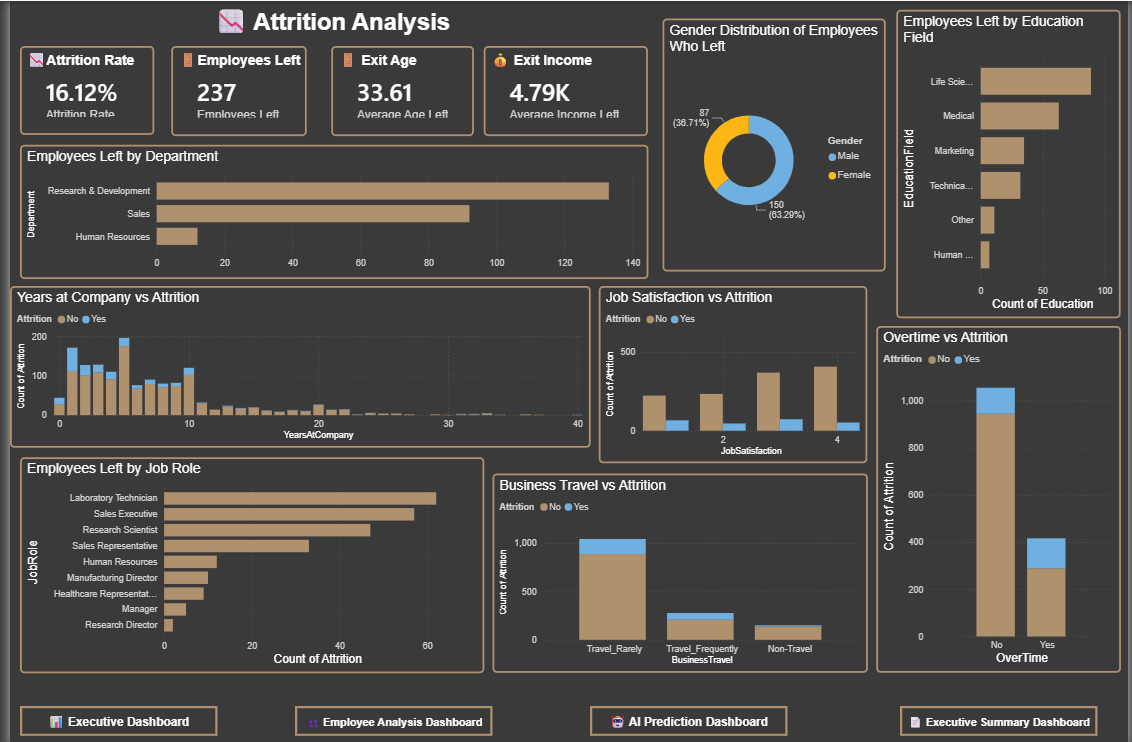

This screenshot's page, from the dashboard's own definition file:
{"tool":"powerbi","page":{"name":"Attrition Analysis","canvas":[1500,1000],"ordinal":3},"visuals":[{"type":"textbox","box":[170.5,0,522.6,53.1],"z":0},{"type":"clusteredBarChart","title":"Employees Left by Department","fields":{"Category":["FactEmployee.Department"],"Y":["CountNonNull(FactEmployee.Attrition)"]},"box":[12.9,193,842.6,180.1],"z":1000},{"type":"clusteredBarChart","title":"Employees Left by Job Role","fields":{"Category":["FactEmployee.JobRole"],"Y":["CountNonNull(FactEmployee.Attrition)"]},"box":[12.9,611.1,622.3,289.5],"z":2000},{"type":"columnChart","title":"Overtime vs Attrition","fields":{"Category":["FactEmployee.OverTime"],"Series":["FactEmployee.Attrition"],"Y":["CountNonNull(FactEmployee.Attrition)"]},"box":[1161,435.8,328,464.7],"z":3000},{"type":"columnChart","title":"Business Travel vs Attrition","fields":{"Category":["FactEmployee.BusinessTravel"],"Series":["FactEmployee.Attrition"],"Y":["CountNonNull(FactEmployee.Attrition)"]},"box":[646.4,633.6,503.3,266.9],"z":4000},{"type":"cardVisual","title":"📉Attrition Rate","fields":{"Data":["FactEmployee.Attrition Rate"]},"box":[12.9,61.1,180.1,119],"z":5000},{"type":"cardVisual","title":"🚪Employees Left","fields":{"Data":["FactEmployee.Employees Left"]},"box":[215.5,61.1,181.7,120.6],"z":6000},{"type":"cardVisual","title":"🚪 Exit Age","fields":{"Data":["FactEmployee.Average Age Left"]},"box":[431,61.1,191.4,120.6],"z":7000},{"type":"cardVisual","title":"💰 Exit Income","fields":{"Data":["FactEmployee.Average Income Left"]},"box":[635.2,61.1,220.3,120.6],"z":8000},{"type":"clusteredColumnChart","title":"Job Satisfaction vs Attrition","fields":{"Category":["FactEmployee.JobSatisfaction"],"Y":["CountNonNull(FactEmployee.Attrition)"],"Series":["FactEmployee.Attrition"]},"box":[789.6,382.7,360.2,238],"z":9000},{"type":"columnChart","title":"Years at Company vs Attrition","fields":{"Category":["FactEmployee.YearsAtCompany"],"Y":["CountNonNull(FactEmployee.Attrition)"],"Series":["FactEmployee.Attrition"]},"box":[0,382.7,778.3,217.1],"z":10000},{"type":"donutChart","title":"Gender Distribution of Employees Who Left","fields":{"Category":["FactEmployee.Gender"],"Y":["CountNonNull(FactEmployee.Gender)"]},"box":[874.8,24.1,299.1,339.3],"z":11000},{"type":"clusteredBarChart","title":"Employees Left by Education Field","fields":{"Category":["FactEmployee.EducationField"],"Y":["CountNonNull(FactEmployee.Education)"]},"box":[1188.4,11.3,300.7,413.3],"z":12000},{"type":"actionButton","box":[13.4,945,264.7,40.2],"z":12001},{"type":"actionButton","box":[777.5,945,264.7,40.2],"z":12002},{"type":"actionButton","box":[382,945,264.7,40.2],"z":12003},{"type":"actionButton","box":[1193,945,264.7,40.2],"z":12004}]}

Visuals, with their boxes in screenshot pixels (x1, y1, x2, y2), scaled from the page's 1500x1000 canvas onto the 1132x742 screenshot:
textbox: 129/0/523/39
"Employees Left by Department" clusteredBarChart: 10/143/646/277
"Employees Left by Job Role" clusteredBarChart: 10/453/479/668
"Overtime vs Attrition" columnChart: 876/323/1124/668
"Business Travel vs Attrition" columnChart: 488/470/868/668
"📉Attrition Rate" cardVisual: 10/45/146/134
"🚪Employees Left" cardVisual: 163/45/300/135
"🚪 Exit Age" cardVisual: 325/45/470/135
"💰 Exit Income" cardVisual: 479/45/646/135
"Job Satisfaction vs Attrition" clusteredColumnChart: 596/284/868/461
"Years at Company vs Attrition" columnChart: 0/284/587/445
"Gender Distribution of Employees Who Left" donutChart: 660/18/886/270
"Employees Left by Education Field" clusteredBarChart: 897/8/1124/315
actionButton: 10/701/210/731
actionButton: 587/701/787/731
actionButton: 288/701/488/731
actionButton: 900/701/1100/731
